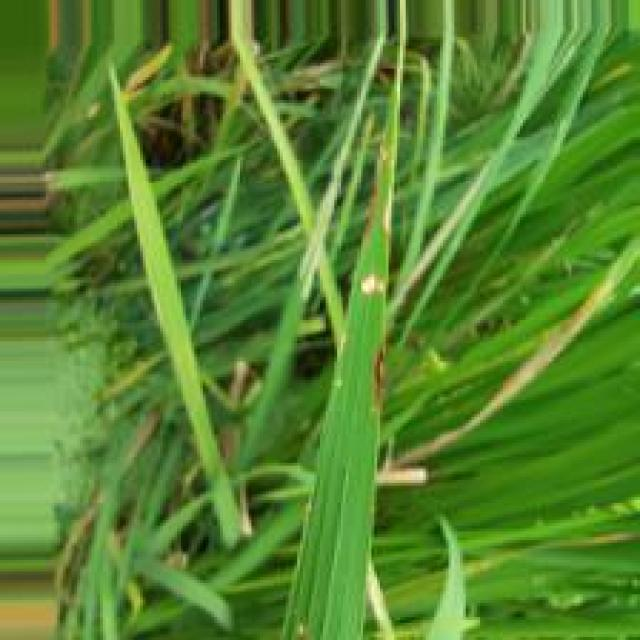Brown_Spot: (372, 342, 384, 411)
